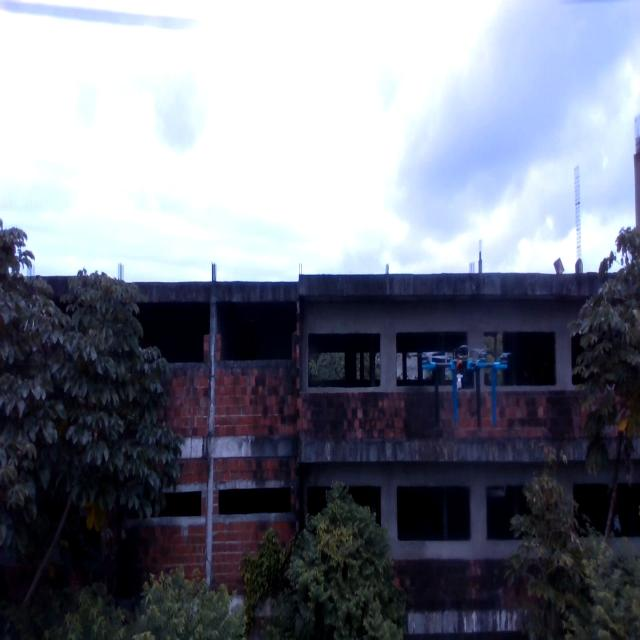-uav-: (420, 323, 518, 437)
